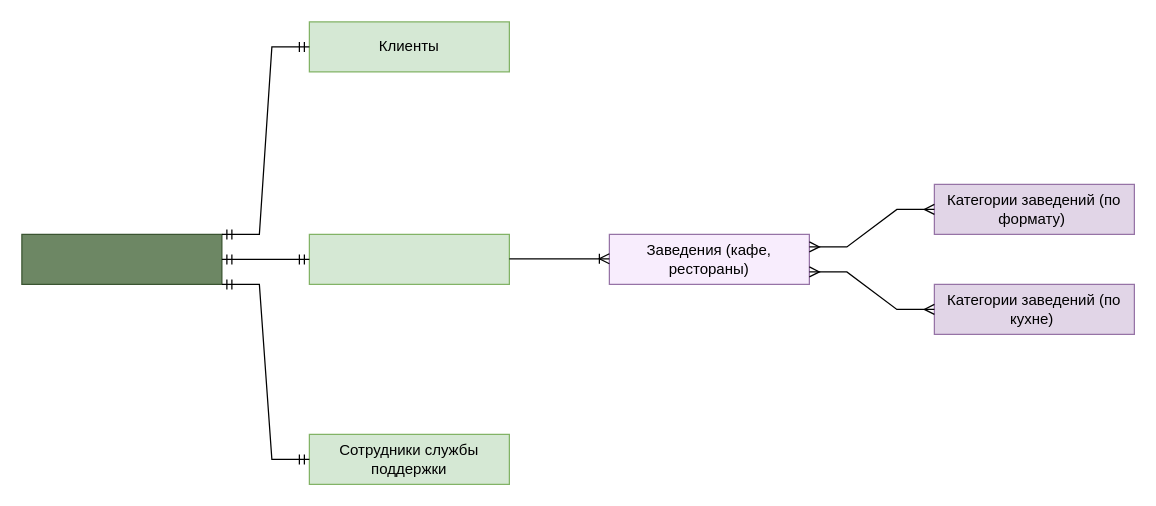
Some shapes in this 1156 by 506 pixel diagram are drawn without their labels. Each missing label, with the centre of its shape:
Владельцы заведений: point 408,258
Пользователи: point 121,258
